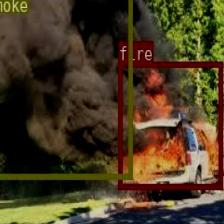fire: (118, 60, 222, 188)
smoke: (0, 0, 132, 177)
